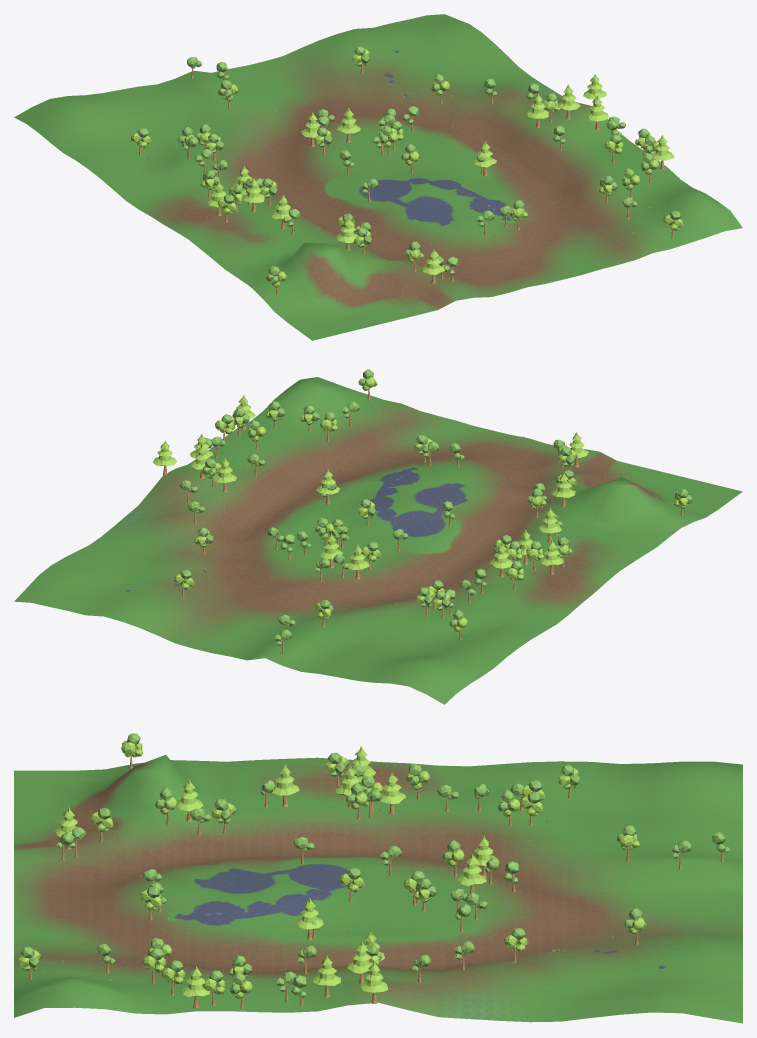
Rendered from terrainmesh.gltf.
The picture shows the model from 3 angles, top to bottom: view 1: azimuth 30°, elevation 25°; view 2: azimuth 150°, elevation 25°; view 3: azimuth 270°, elevation 25°; orthographic projection. The views are drawn at different scales.
Parts seen in each view (by area): view 1: New Terrain 1; view 2: New Terrain 1; view 3: New Terrain 1, Tree2 (×9).
Part boxes in pixels (x1,y1,x2,y2): New Terrain 1: (14, 14, 742, 340); New Terrain 1: (14, 377, 742, 704); New Terrain 1: (14, 755, 742, 1023); Tree2 (×9): (176, 764, 486, 1008).
Bounding box in the file's own units: 1.02 × 0.122 × 1.2.
8 materials, 1 textured.
